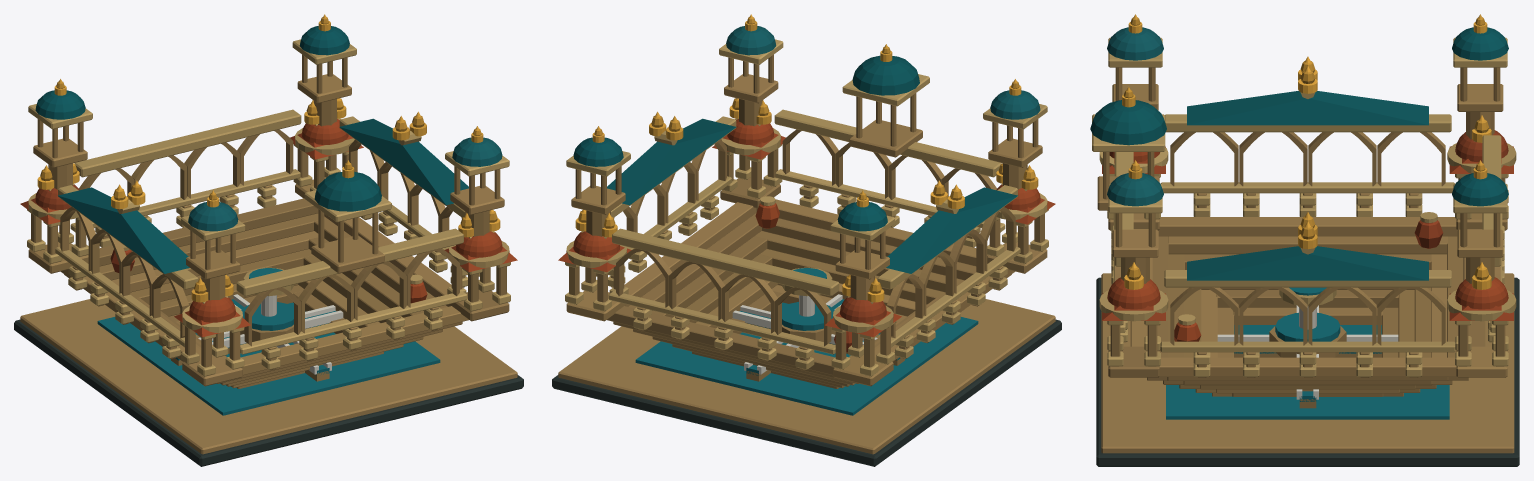
The picture shows the model from 3 angles, left to right: view 1: azimuth 30°, elevation 25°; view 2: azimuth 150°, elevation 25°; view 3: azimuth 270°, elevation 25°; orthographic projection. The views are drawn at different scales.
Parts seen in each view (by area): view 1: stepwell_level11_structure, stepwell_level11_metal; view 2: stepwell_level11_structure, stepwell_level11_metal; view 3: stepwell_level11_structure, stepwell_level11_metal.
Part boxes in pixels (x1=…): stepwell_level11_structure: x1=14, y1=17, x2=523, y2=466; stepwell_level11_metal: x1=37, y1=14, x2=500, y2=302; stepwell_level11_structure: x1=552, y1=17, x2=1061, y2=466; stepwell_level11_metal: x1=575, y1=14, x2=1038, y2=302; stepwell_level11_structure: x1=1090, y1=17, x2=1519, y2=466; stepwell_level11_metal: x1=1122, y1=14, x2=1491, y2=289.
Bounding box in the file's own units: 5.6 × 4.26 × 5.68.
